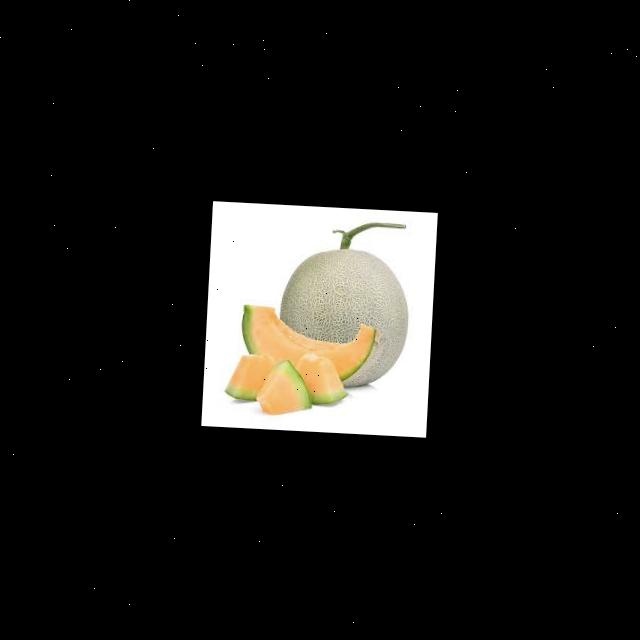Hami Melon: (278, 218, 414, 348), (240, 304, 380, 362)
